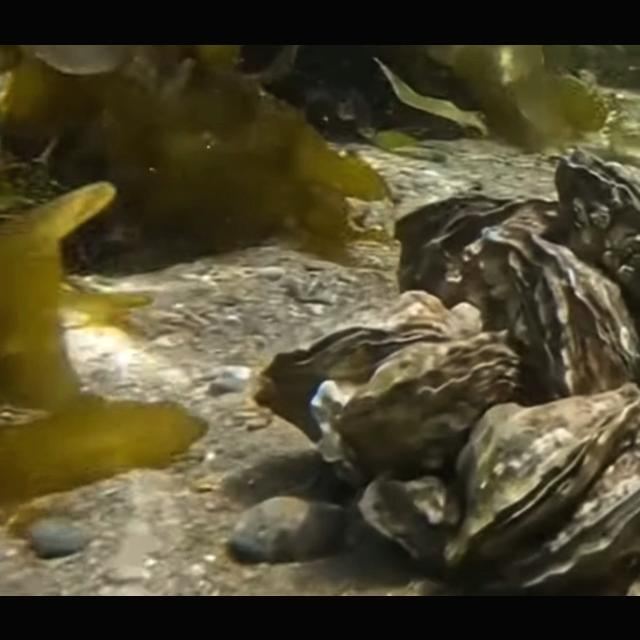Oyster-Closed: (310, 328, 522, 477), (504, 229, 640, 393)
Oyster-Open: (444, 380, 640, 560), (254, 314, 452, 442), (393, 193, 563, 311), (506, 442, 640, 590), (552, 146, 640, 322)
